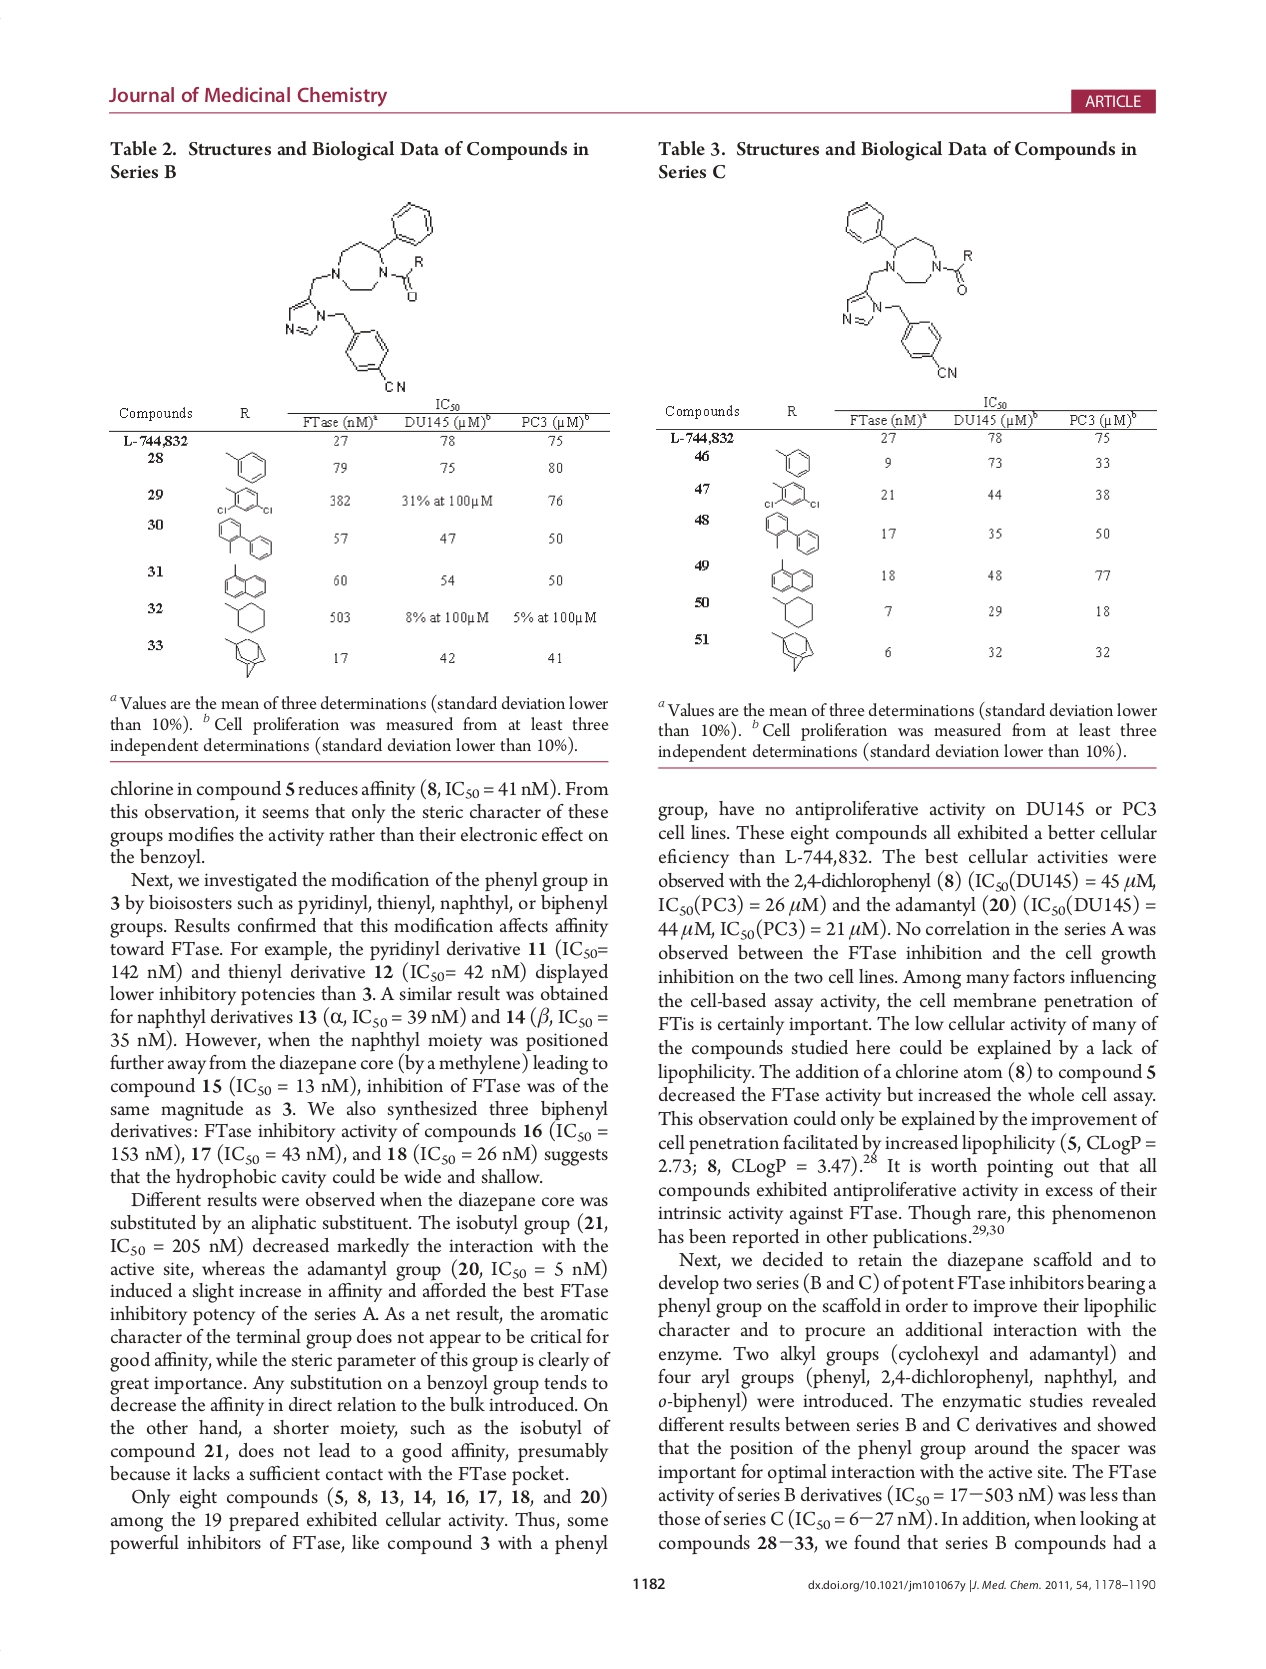exist_molecular: (281, 198, 435, 396), (836, 199, 976, 384), (215, 516, 274, 561), (762, 512, 822, 556), (221, 634, 270, 681), (769, 626, 815, 673), (761, 477, 823, 511), (215, 485, 275, 517), (222, 447, 269, 485), (222, 561, 269, 598), (221, 598, 269, 634), (769, 557, 817, 593), (769, 443, 813, 479), (771, 593, 817, 628)
